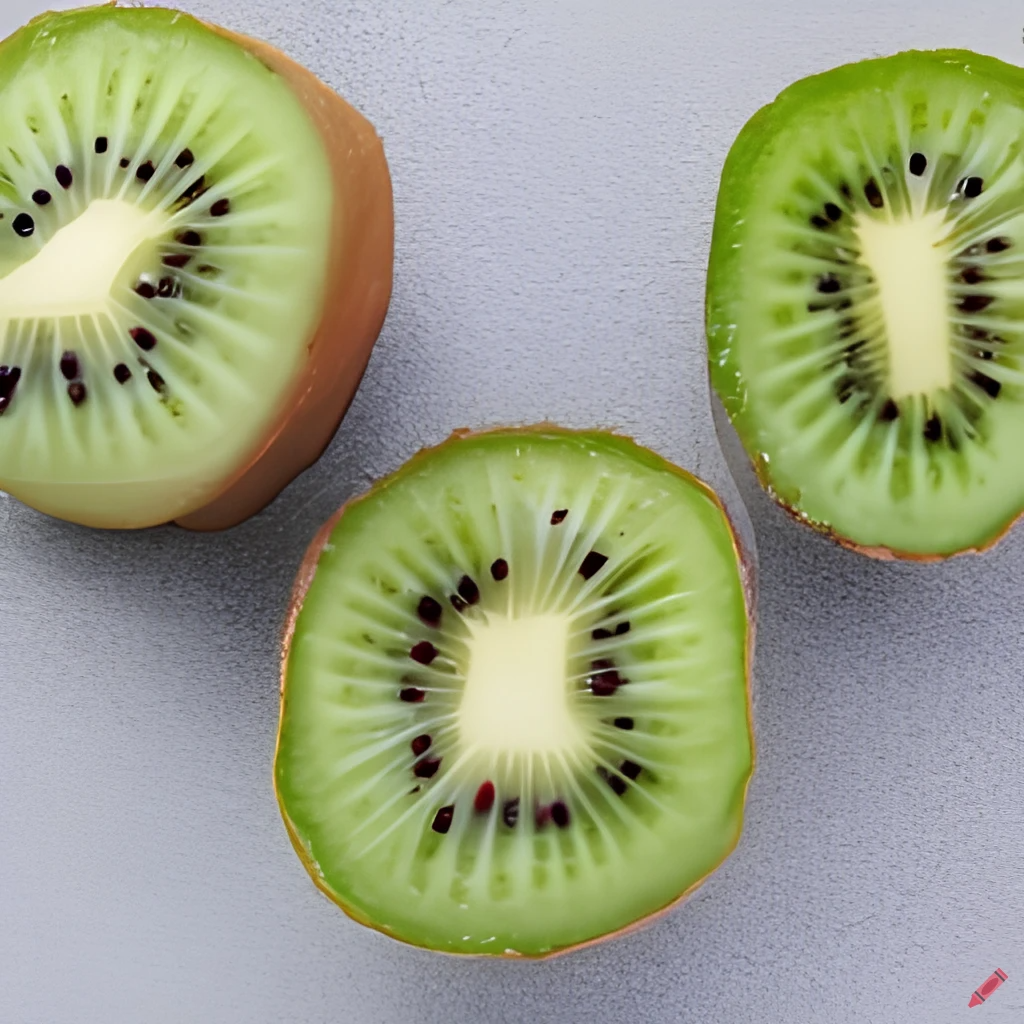Kiwi: (713, 32, 1024, 567)
